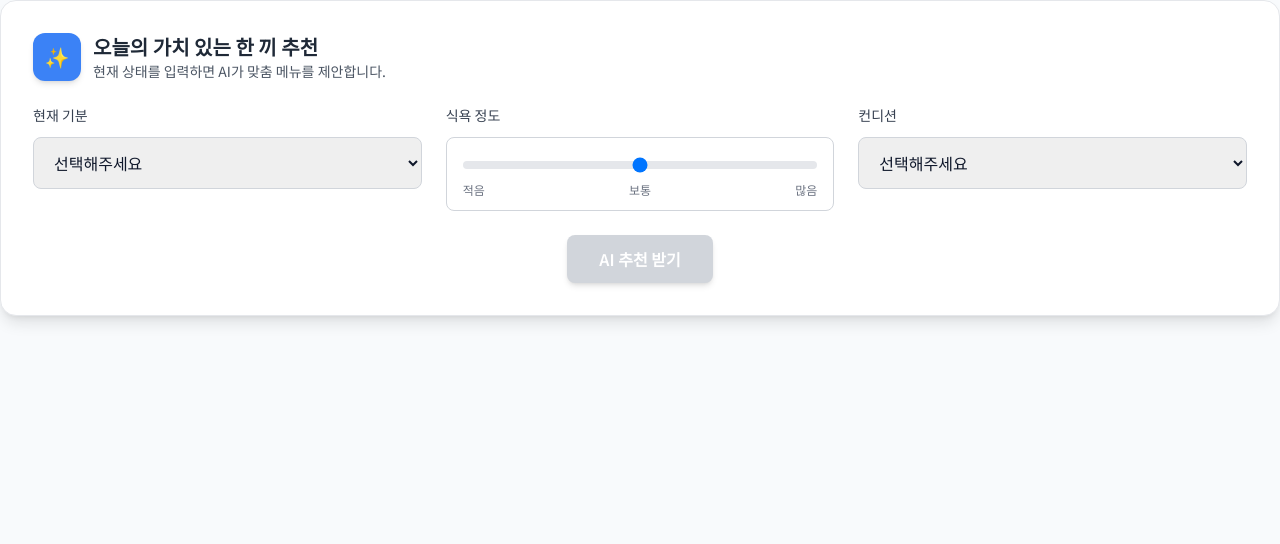
Test: AiRecommendationWidget › 성공 응답 시 추천 결과를 표시한다
Select "좋음" in the dropdown with test id "mood-select": (227, 163) 33,137 -> 422,189
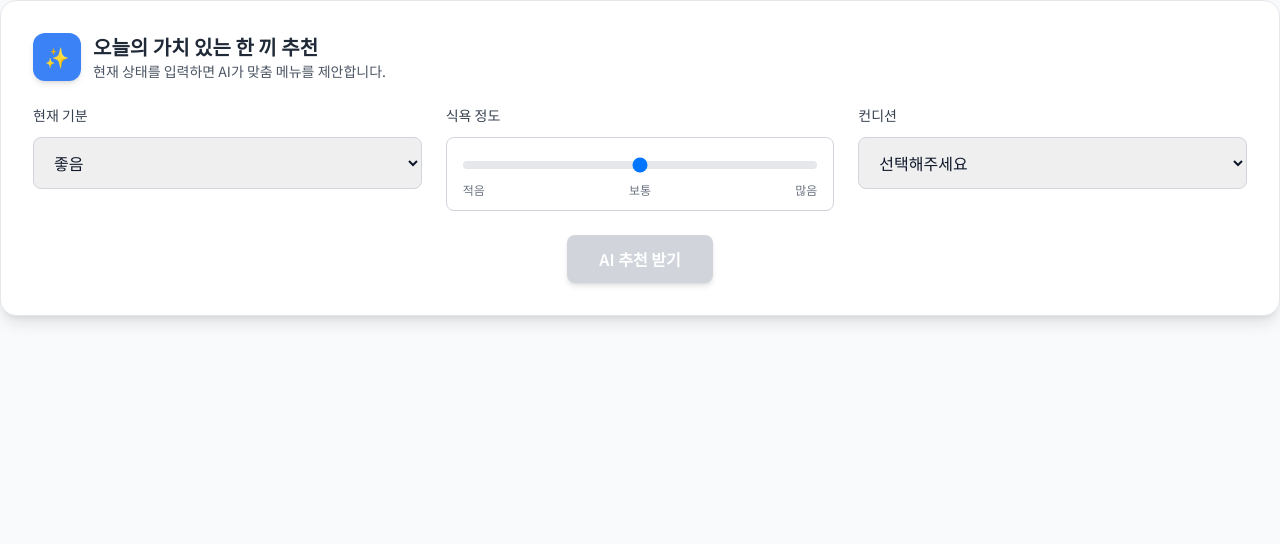
Select "보통" in the dropdown with test id "condition-select": (1053, 163) 858,137 -> 1247,189
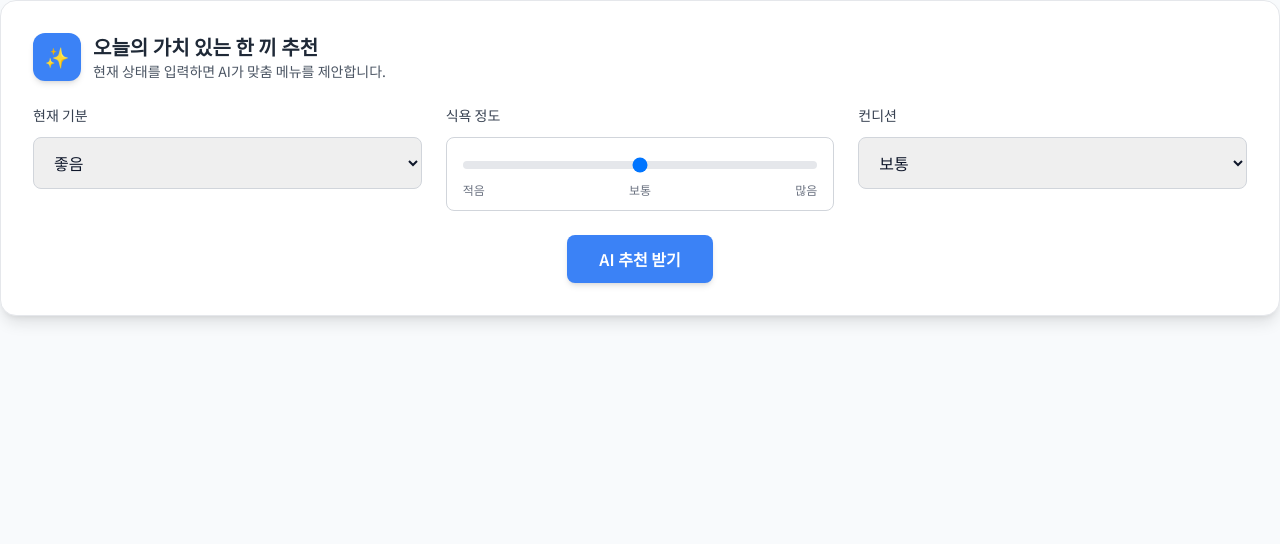
Click the button with test id "recommend-btn": (640, 259) 567,235 -> 713,283
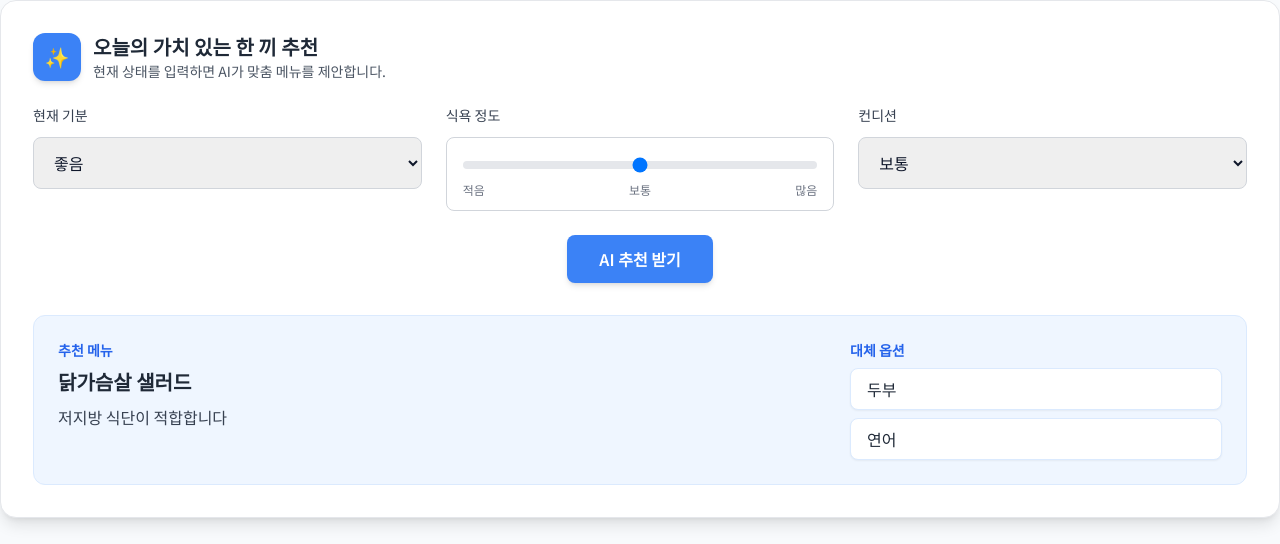
Check: the text "닭가슴살 샐러드" is shown, box 58,367 -> 191,396
Check: the text "두부" is shown, box 850,368 -> 1222,410
